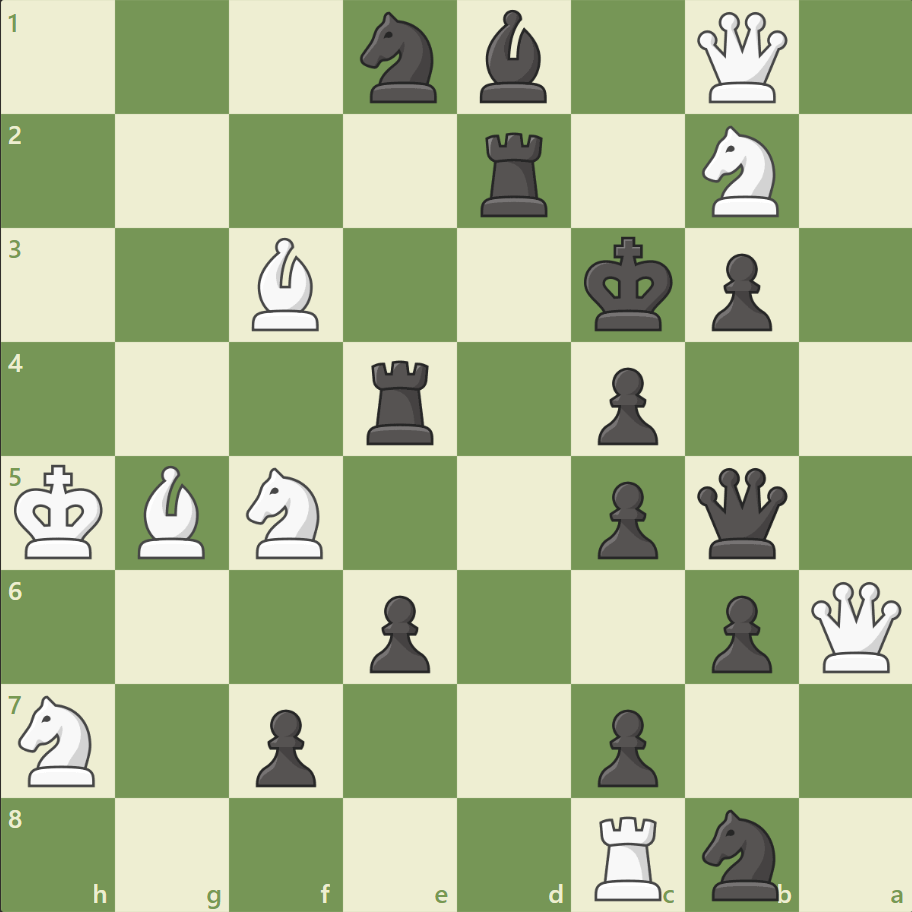B: (131, 460, 215, 563), (244, 233, 328, 336)
K: (11, 458, 111, 566)
N: (11, 688, 108, 791), (238, 461, 335, 564), (692, 121, 789, 223)
Q: (805, 576, 904, 676), (691, 9, 790, 108)
R: (587, 806, 670, 904)
b: (471, 6, 555, 109)
k: (579, 231, 679, 339)
n: (351, 7, 449, 110), (692, 802, 789, 904)
p: (247, 700, 322, 791), (701, 586, 776, 677), (701, 246, 776, 337), (588, 700, 662, 791), (361, 586, 435, 677), (588, 473, 662, 564), (588, 359, 662, 450)
q: (691, 463, 790, 562)
r: (473, 125, 556, 222), (360, 352, 442, 449)
